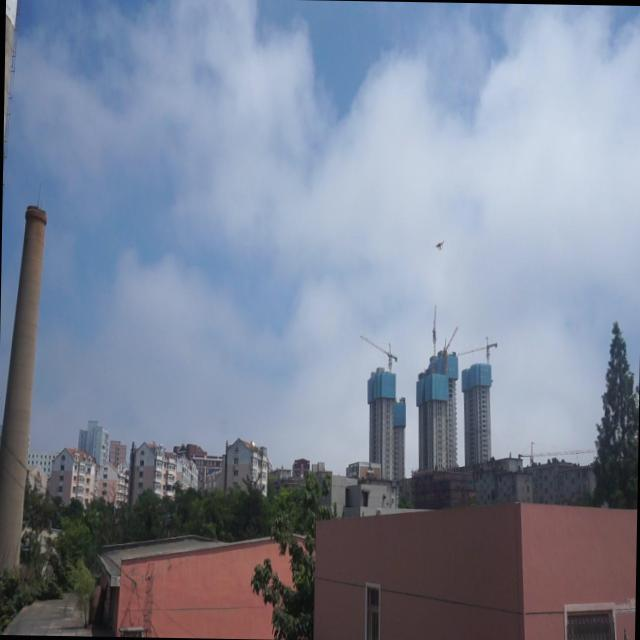drone: (434, 236, 446, 254)
